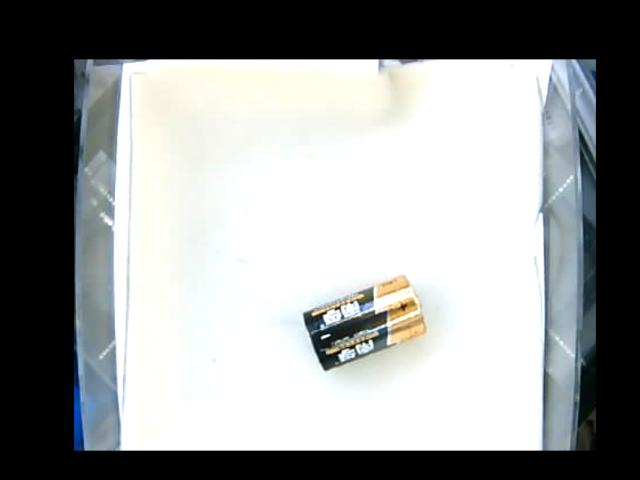Battery: (303, 273, 427, 370)
